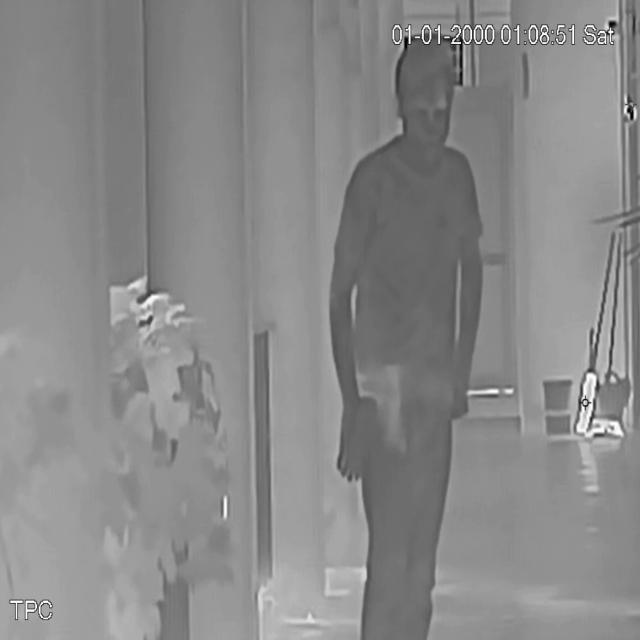Weapon: (348, 352, 426, 463)
